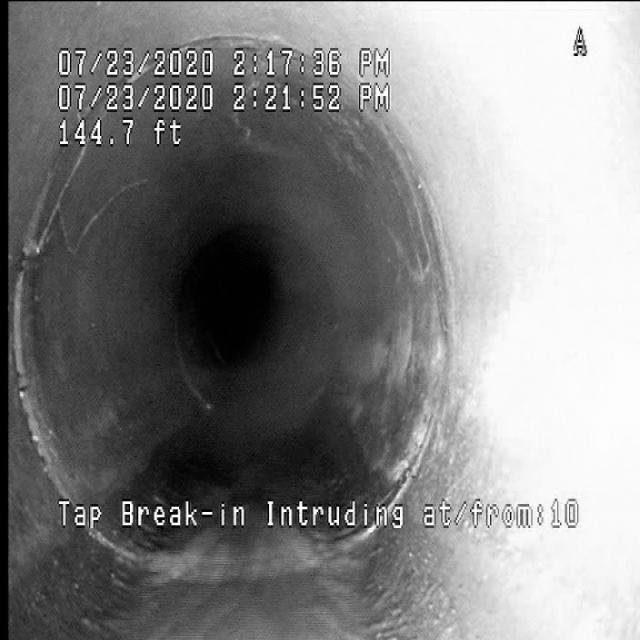Crack: (26, 157, 142, 257)
